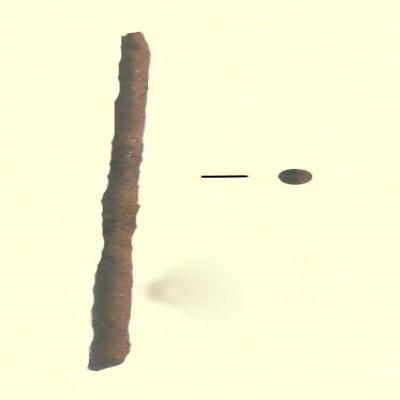archeology: (88, 32, 152, 372), (276, 168, 313, 186)
